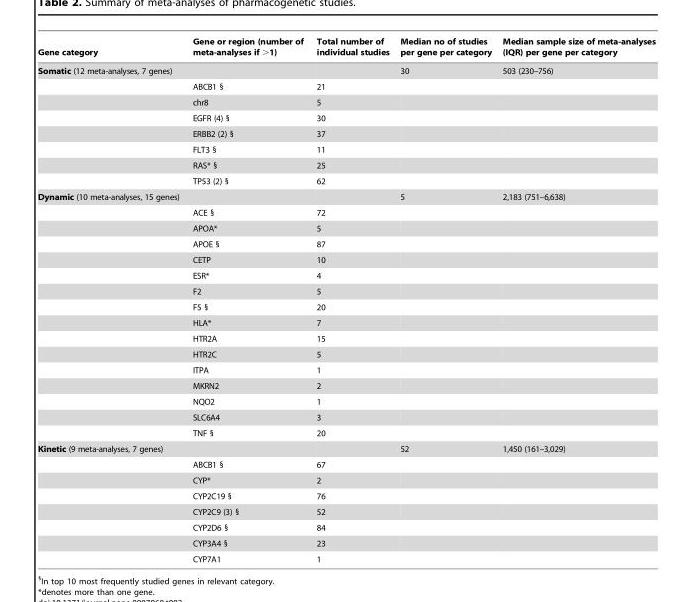table: (37, 36, 655, 563)
table column: (496, 36, 655, 563), (37, 36, 185, 563), (185, 36, 309, 563), (394, 36, 496, 563), (309, 36, 394, 563)
table column header: (37, 36, 655, 61)
table row: (37, 36, 655, 61), (37, 61, 655, 78), (37, 78, 655, 94), (37, 94, 655, 110), (37, 125, 655, 141), (37, 141, 655, 157), (37, 157, 655, 173), (37, 188, 655, 204), (37, 204, 655, 220), (37, 220, 655, 236), (37, 251, 655, 267), (37, 267, 655, 283), (37, 283, 655, 299), (37, 314, 655, 330), (37, 330, 655, 346), (37, 346, 655, 362), (37, 377, 655, 393), (37, 393, 655, 409), (37, 409, 655, 425), (37, 440, 655, 456), (37, 456, 655, 472), (37, 472, 655, 488), (37, 503, 655, 519), (37, 519, 655, 535), (37, 535, 655, 551), (37, 110, 655, 125), (37, 173, 655, 188), (37, 236, 655, 251), (37, 299, 655, 314), (37, 362, 655, 377), (37, 425, 655, 440), (37, 488, 655, 503), (37, 551, 655, 563)
table spanning cell: (37, 188, 185, 440), (37, 61, 185, 188), (37, 440, 185, 563)
